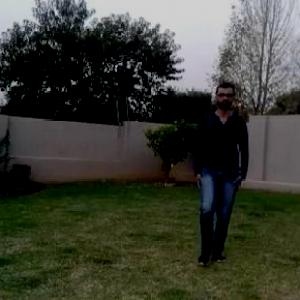follow: (189, 84, 245, 258)
